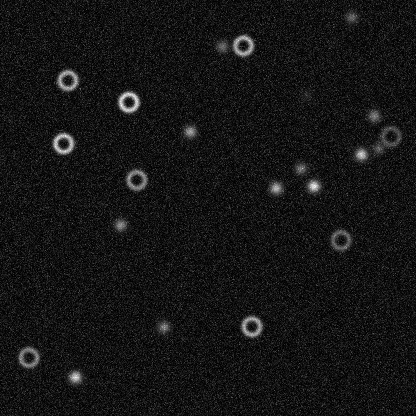Ring: (55, 68, 79, 92), (51, 131, 75, 155), (124, 167, 148, 191), (239, 314, 263, 338), (16, 345, 40, 369), (231, 33, 255, 57), (116, 89, 140, 113), (378, 124, 402, 148), (328, 227, 352, 251)
Spot: (365, 107, 381, 123), (305, 177, 321, 193), (267, 180, 283, 196), (298, 86, 314, 102), (370, 140, 386, 156), (112, 216, 128, 232), (181, 123, 197, 139), (155, 318, 171, 334), (353, 146, 369, 162), (343, 9, 359, 25), (214, 38, 230, 54), (67, 368, 83, 384), (292, 160, 308, 176)
